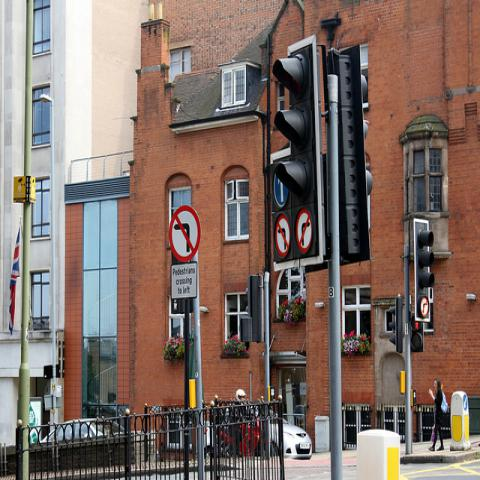car: (40, 419, 125, 444), (283, 419, 312, 461), (204, 418, 213, 458)
motorcycle: (213, 414, 266, 460)
